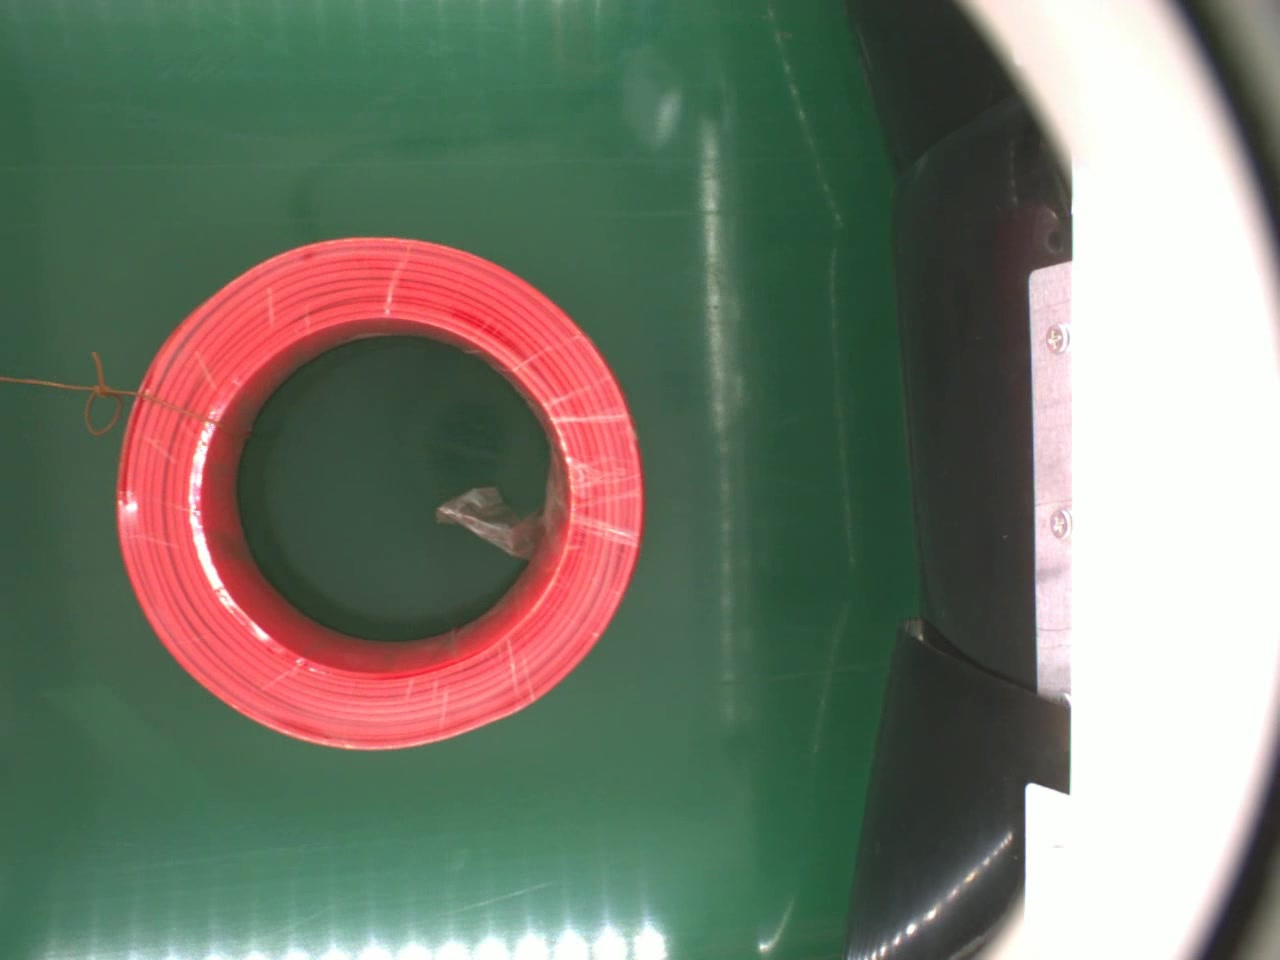red: (112, 239, 644, 755)
